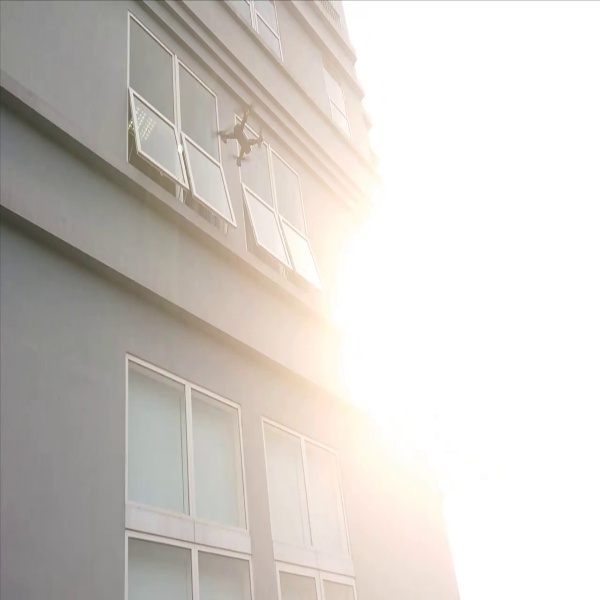drone: (207, 97, 270, 170)
